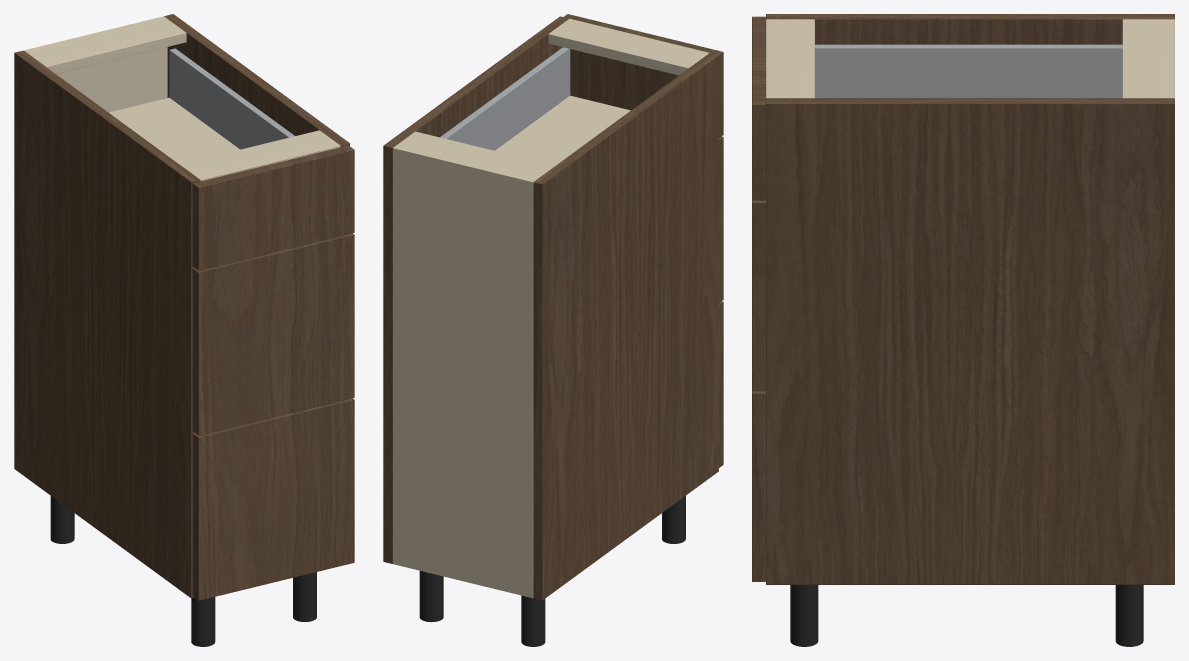
The model's file is oppein-ply-mso-3db12.glb.
The picture shows the model from 3 angles, left to right: view 1: azimuth 30°, elevation 25°; view 2: azimuth 150°, elevation 25°; view 3: azimuth 270°, elevation 25°; orthographic projection. The views are drawn at different scales.
Visible parts, largest first — view 1: Cabinet side, Drawer front, Drawer front.001, Drawer front.002, Drawer side.005, Cabinet back, Cabinet side.001, Drawer floor.002, Top support rail, Top support rail.001, Adjustable foot.001, Adjustable foot.003 (+1 smaller); view 2: Cabinet side, Cabinet back, Cabinet side.001, Drawer side.005, Drawer front.002, Drawer floor.002, Top support rail.001, Top support rail, Adjustable foot, Adjustable foot.002, Adjustable foot.001, Drawer front.001 (+1 smaller); view 3: Cabinet side.001, Drawer side.004, Cabinet side, Top support rail.001, Top support rail, Drawer front.001, Drawer front, Drawer front.002, Adjustable foot.002, Adjustable foot.003, Cabinet back.
Boxes of the visible parts, x1,y1,x2,y2 form: Cabinet side: (14,50,200,598); Drawer front: (192,398,354,600); Drawer front.001: (192,233,354,435); Drawer front.002: (192,145,354,270); Drawer side.005: (169,48,294,149); Cabinet back: (24,16,167,112); Cabinet side.001: (164,14,349,146); Drawer floor.002: (108,97,239,164); Top support rail: (25,18,186,73); Top support rail.001: (179,130,340,181); Adjustable foot.001: (191,597,215,646); Adjustable foot.003: (293,572,316,621); Cabinet side: (533,53,718,600); Cabinet back: (393,145,535,597); Cabinet side.001: (383,16,568,563); Drawer side.005: (440,47,570,150); Drawer front.002: (564,14,723,137); Drawer floor.002: (495,95,630,165); Top support rail.001: (548,18,709,75); Top support rail: (396,131,554,179); Adjustable foot: (521,595,545,646); Adjustable foot.002: (419,571,443,622); Adjustable foot.001: (662,496,685,543); Drawer front.001: (719,136,723,302); Cabinet side.001: (766,98,1174,584); Drawer side.004: (815,44,1122,98); Cabinet side: (766,14,1174,44); Top support rail.001: (766,19,814,98); Top support rail: (1122,19,1166,98); Drawer front.001: (752,200,765,391); Drawer front: (752,391,765,581); Drawer front.002: (752,16,765,200); Adjustable foot.002: (1115,585,1143,646); Adjustable foot.003: (790,585,818,646); Cabinet back: (1167,19,1174,98).
Size of the model in its own units: 0.3048 by 0.8763 by 0.6064.
Materials: 4 (1 with a texture image).
